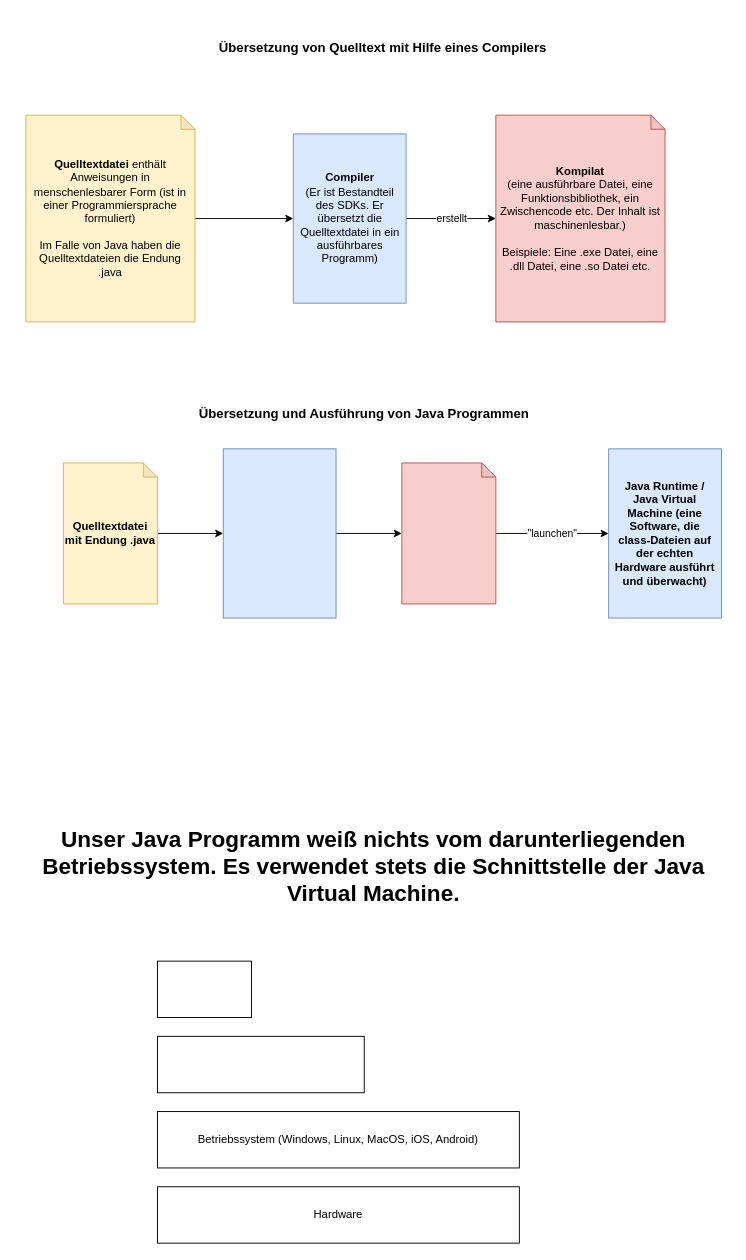
The diagram is 746 pixels wide and 1260 high, and some of its shapes have lost their labels. Here are the shapes that lost their labels. From the top down, the centre of each, then its label:
At (x=279, y=533): "Java Compiler (javac.exe)".
At (x=448, y=533): "Kompilat (eine .class Datei)".
At (x=204, y=989): "Unser Java Programm".
At (x=260, y=1064): "Java Virtual Machine / Java Runtime".
